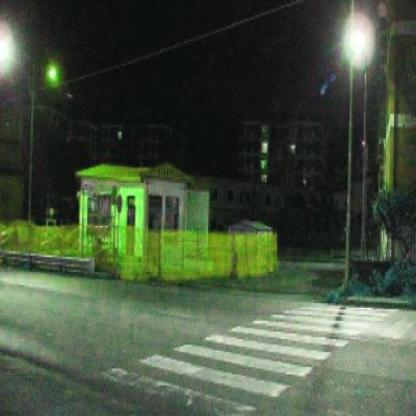crosswalk: (132, 334, 315, 408)
